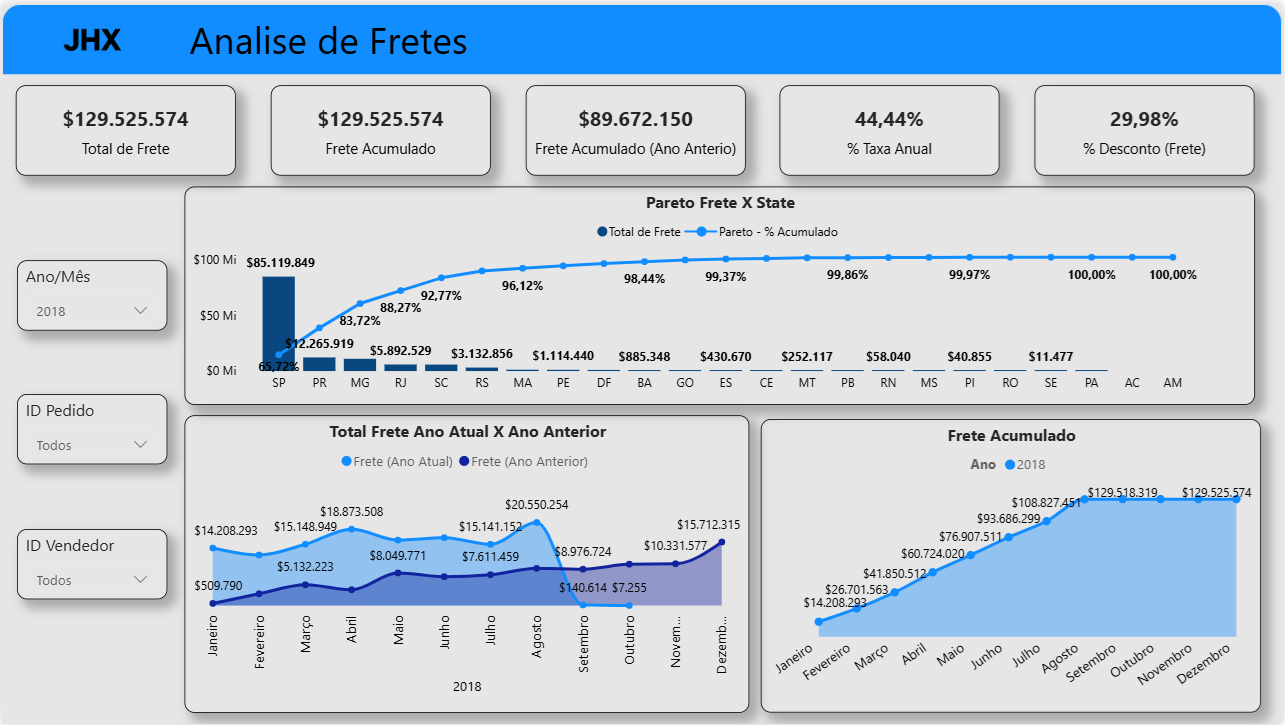

What the dashboard file says about the page in this screenshot:
{"tool":"powerbi","page":{"name":"Visão Frete","canvas":[1280,720],"ordinal":0},"visuals":[{"type":"card","fields":{"Values":["_Medidas.Soma de Frete"]},"box":[13.8,81,220,90],"z":0},{"type":"card","fields":{"Values":["_1_Medidas.Frete Acumulado"]},"box":[268.4,81,220,90],"z":1000},{"type":"slicer","title":"Ano/Mês","fields":{"Values":["D_Calendário.Ano"]},"box":[15.2,256.7,150,70],"z":2000},{"type":"card","fields":{"Values":["_1_Medidas.Frete Acumulado (Ano Anterio)"]},"box":[523.1,81,220,90],"z":3000},{"type":"card","fields":{"Values":["_1_Medidas.% Taxa Anual"]},"box":[777.8,81,220,90],"z":4000},{"type":"card","fields":{"Values":["_1_Medidas.% Desconto (Frete)"]},"box":[1032.5,81,220,90],"z":5000},{"type":"slicer","title":"ID Pedido","fields":{"Values":["_F_Order_items.order_id"]},"box":[15.2,390.6,150,70],"z":6000},{"type":"slicer","title":"ID Vendedor","fields":{"Values":["_F_Order_items.seller_id"]},"box":[15.2,524.4,150,70],"z":7000},{"type":"areaChart","title":"Total Frete Ano Atual X Ano Anterior","fields":{"Category":["D_Calendário.Ano","D_Calendário.Nome do Mês"],"Y":["_1_Medidas.Total de Frete","_1_Medidas.Total Frete (Ano Anterior)"]},"box":[182.5,411.2,565,297.5],"z":8000},{"type":"lineStackedColumnComboChart","title":"Pareto Frete X State","fields":{"Category":["_F_Order_items.State"],"Y":["_1_Medidas.Total de Frete"],"Y2":["_1_Medidas.Pareto - % Acumulado"]},"box":[182.5,182.5,1070,218.8],"z":9000},{"type":"areaChart","title":"Frete Acumulado","fields":{"Y":["_1_Medidas.Frete Acumulado"],"Series":["D_Calendário.Ano"],"Category":["D_Calendário.Nome do Mês"]},"box":[758.8,415,500,293.8],"z":10000},{"type":"shape","box":[0,0,1280,71.2],"z":11000},{"type":"textbox","box":[182.5,5,300,61.7],"z":12000},{"type":"image","box":[41,1.2,97.7,71.2],"z":12501}]}

Visuals, with their boxes in screenshot pixels (x1, y1, x2, y2), scaled from the page's 1280x720 canvas onto the 1285x725 screenshot:
card - _Medidas.Soma de Frete: select_region(14, 82, 235, 172)
card - _1_Medidas.Frete Acumulado: select_region(269, 82, 490, 172)
"Ano/Mês" slicer: select_region(15, 258, 166, 329)
card - _1_Medidas.Frete Acumulado (Ano Anterio): select_region(525, 82, 746, 172)
card - _1_Medidas.% Taxa Anual: select_region(781, 82, 1002, 172)
card - _1_Medidas.% Desconto (Frete): select_region(1037, 82, 1257, 172)
"ID Pedido" slicer: select_region(15, 393, 166, 464)
"ID Vendedor" slicer: select_region(15, 528, 166, 599)
"Total Frete Ano Atual X Ano Anterior" areaChart: select_region(183, 414, 750, 714)
"Pareto Frete X State" lineStackedColumnComboChart: select_region(183, 184, 1257, 404)
"Frete Acumulado" areaChart: select_region(762, 418, 1264, 714)
shape: select_region(0, 0, 1284, 72)
textbox: select_region(183, 5, 484, 67)
image: select_region(41, 1, 139, 73)
